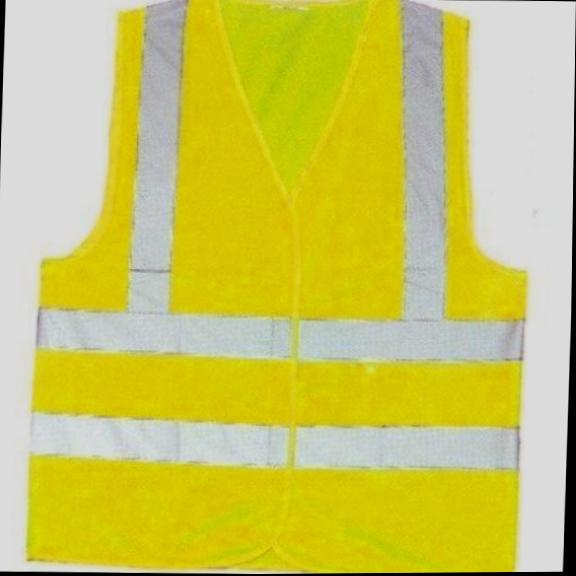safety_vest: (20, 0, 535, 576)
